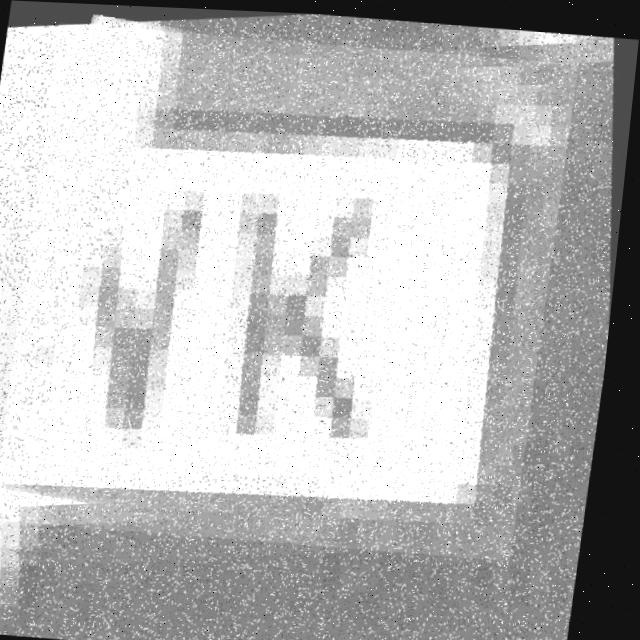LicensePlate: (0, 21, 580, 556)
